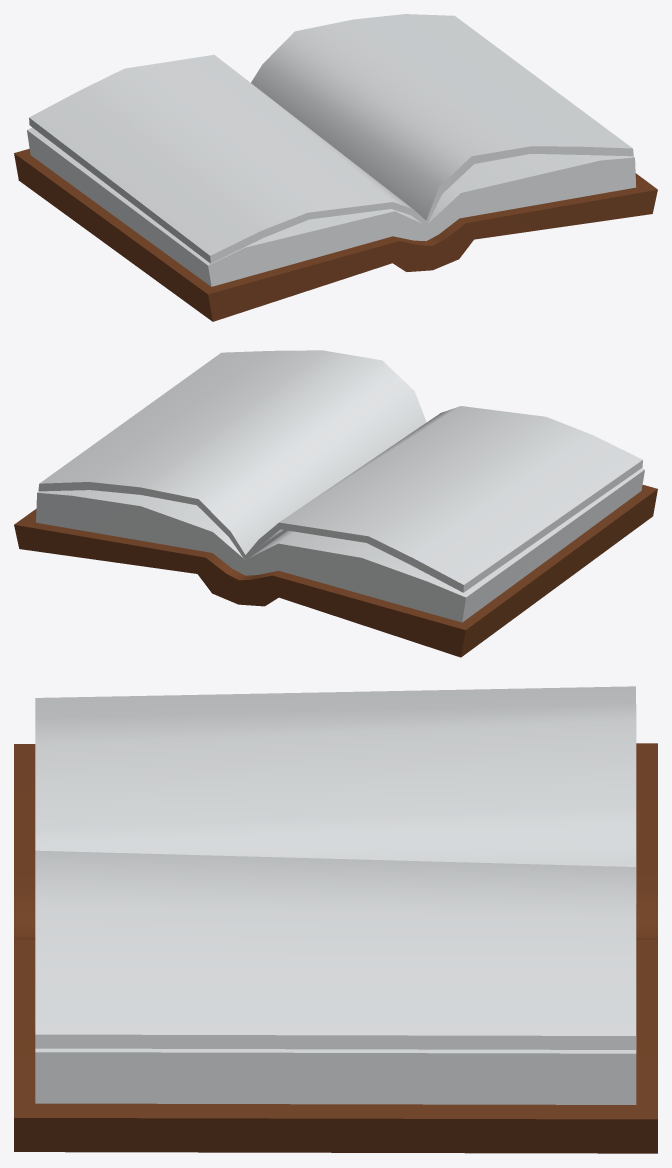
File: Book_Open_C.fbx
3 views of the same model, one above another, from view 1: azimuth 30°, elevation 25°; view 2: azimuth 150°, elevation 25°; view 3: azimuth 270°, elevation 25° (orthographic). The views are drawn at different scales.
Parts seen in each view (by area): view 1: Book_Open_C; view 2: Book_Open_C; view 3: Book_Open_C.
Part boxes in pixels (x1=…): Book_Open_C: x1=14, y1=14, x2=657, y2=321; Book_Open_C: x1=14, y1=350, x2=657, y2=657; Book_Open_C: x1=14, y1=686, x2=657, y2=1153.
Bounding box in the file's own units: 43.03 × 8.93 × 31.81.
